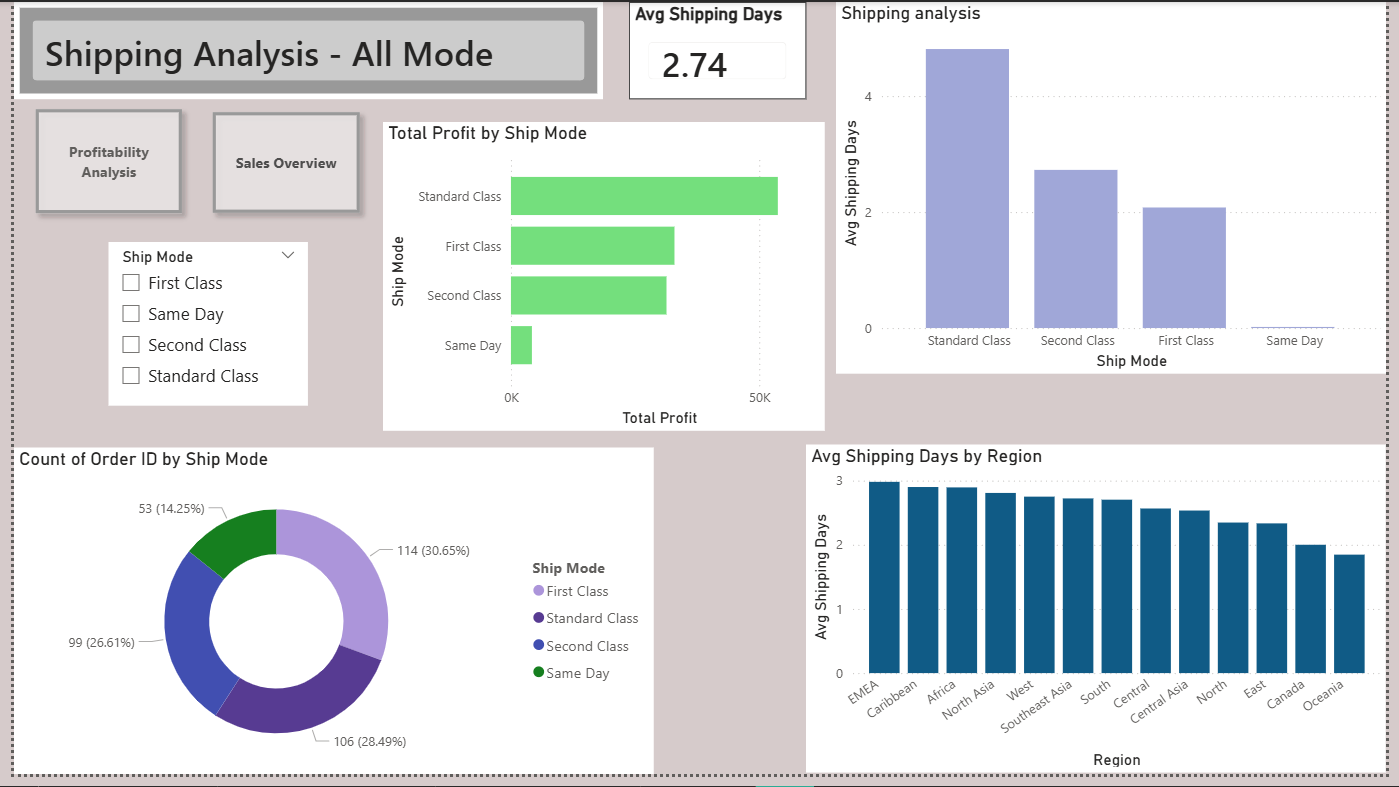

The page's visual inventory and layout, read from the dashboard file:
{"tool":"powerbi","page":{"name":"Shipping Analysis","canvas":[1280,720],"ordinal":2},"visuals":[{"type":"columnChart","title":"Shipping analysis ","fields":{"Y":["fact_sales.Avg Shipping Days"],"Category":["fact_sales.Ship Mode"]},"box":[766.2,0,513.3,346.8],"z":0},{"type":"cardVisual","title":"Avg Shipping Days","fields":{"Data":["fact_sales.Avg Shipping Days"]},"box":[573.9,0,165,90.9],"z":1000},{"type":"columnChart","fields":{"Y":["fact_sales.Avg Shipping Days"],"Category":["fact_sales.Region"]},"box":[738.9,413.4,540.6,305.9],"z":2000},{"type":"donutChart","fields":{"Category":["fact_sales.Ship Mode"],"Y":["CountNonNull(fact_sales.Order ID)"]},"box":[0,414.9,596.6,304.4],"z":3000},{"type":"actionButton","box":[176.3,93.7,155.3,111.9],"z":4000},{"type":"actionButton","box":[10.6,90.9,154.4,115.1],"z":5000},{"type":"cardVisual","fields":{"Data":["fact_sales.Ship Title"]},"box":[0,0,549.7,90.9],"z":6000},{"type":"barChart","fields":{"Y":["fact_sales.Total Profit"],"Category":["fact_sales.Ship Mode"]},"box":[343.7,112.1,411.9,287.7],"z":6001},{"type":"slicer","fields":{"Values":["fact_sales.Ship Mode"]},"box":[87.8,224.1,186.2,152.9],"z":6002}]}

Visuals, with their boxes in screenshot pixels (x1, y1, x2, y2), scaled from the page's 1280x720 canvas onto the 1399x787 screenshot:
"Shipping analysis " columnChart: <box>837,0,1398,379</box>
"Avg Shipping Days" cardVisual: <box>627,0,808,99</box>
columnChart - fact_sales.Avg Shipping Days x fact_sales.Region: <box>808,452,1398,786</box>
donutChart - fact_sales.Ship Mode x CountNonNull(fact_sales.Order ID): <box>0,454,652,786</box>
actionButton: <box>193,102,362,225</box>
actionButton: <box>12,99,180,225</box>
cardVisual - fact_sales.Ship Title: <box>0,0,601,99</box>
barChart - fact_sales.Total Profit x fact_sales.Ship Mode: <box>376,123,826,437</box>
slicer - fact_sales.Ship Mode: <box>96,245,299,412</box>
